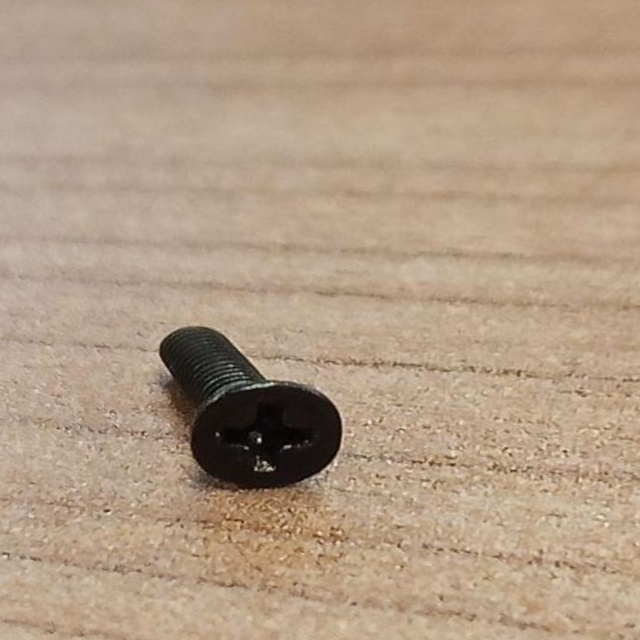phillips: (184, 373, 350, 498)
